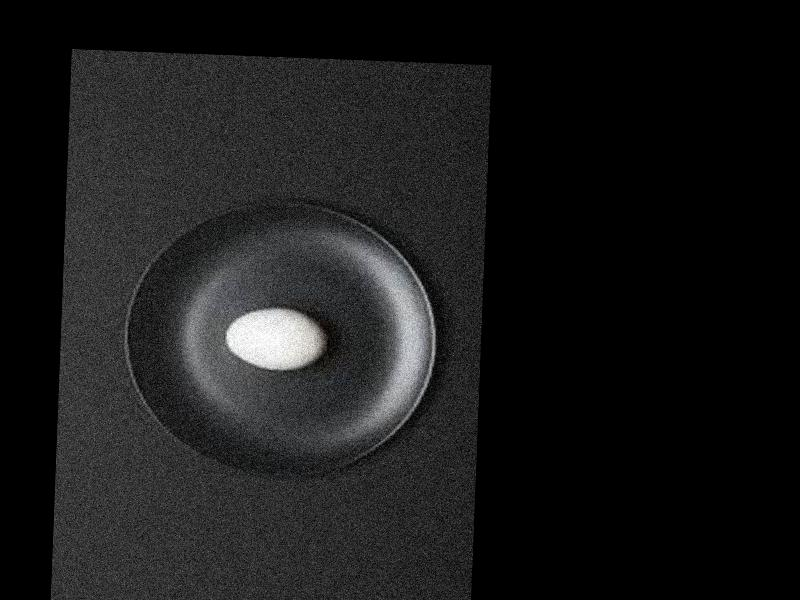Eggs: (225, 305, 326, 371)
